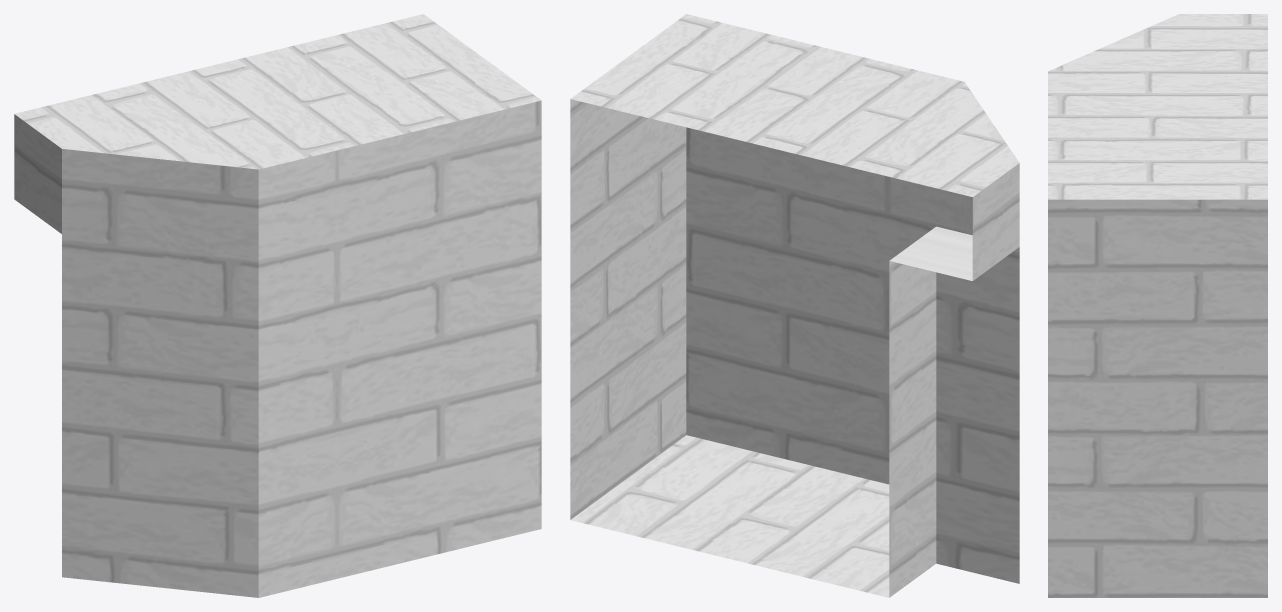
The model's file is castle_type_p.gltf.
3 renders of one model, left to right at view 1: azimuth 30°, elevation 25°; view 2: azimuth 150°, elevation 25°; view 3: azimuth 270°, elevation 25°, orthographic. The views are drawn at different scales.
Visible parts, largest first — view 1: Type_P; view 2: Type_P; view 3: Type_P.
Part boxes in pixels (<box>): Type_P: <box>14,14,541,597</box>; Type_P: <box>570,14,1019,597</box>; Type_P: <box>1048,14,1267,597</box>.
Size of the model in its own units: 1 by 1 by 0.5.
1 material, 1 textured.
